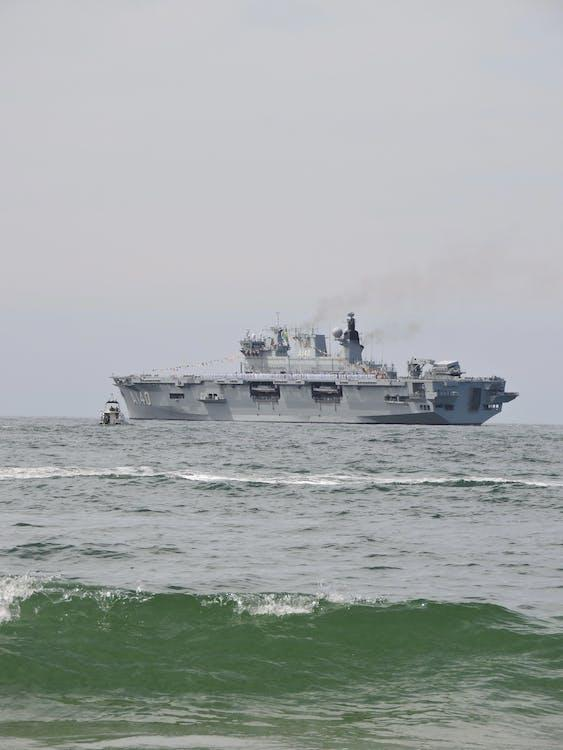MIL_Ship: (111, 307, 519, 431)
